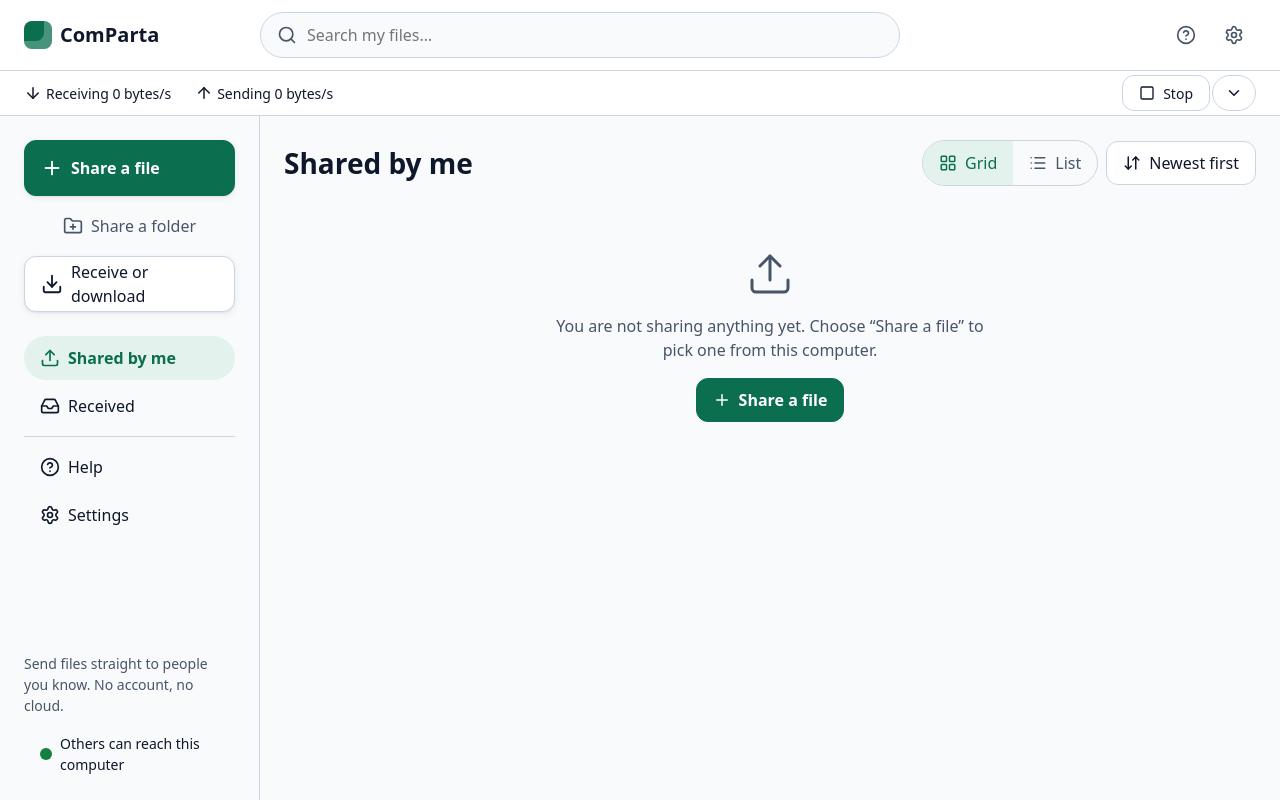
Test case: sharing a folder or several files › shares a folder chosen in the folder dialog, with its files counted and a folder picture
Click the button "Share a folder" at [130, 226], box [24,204,235,248]
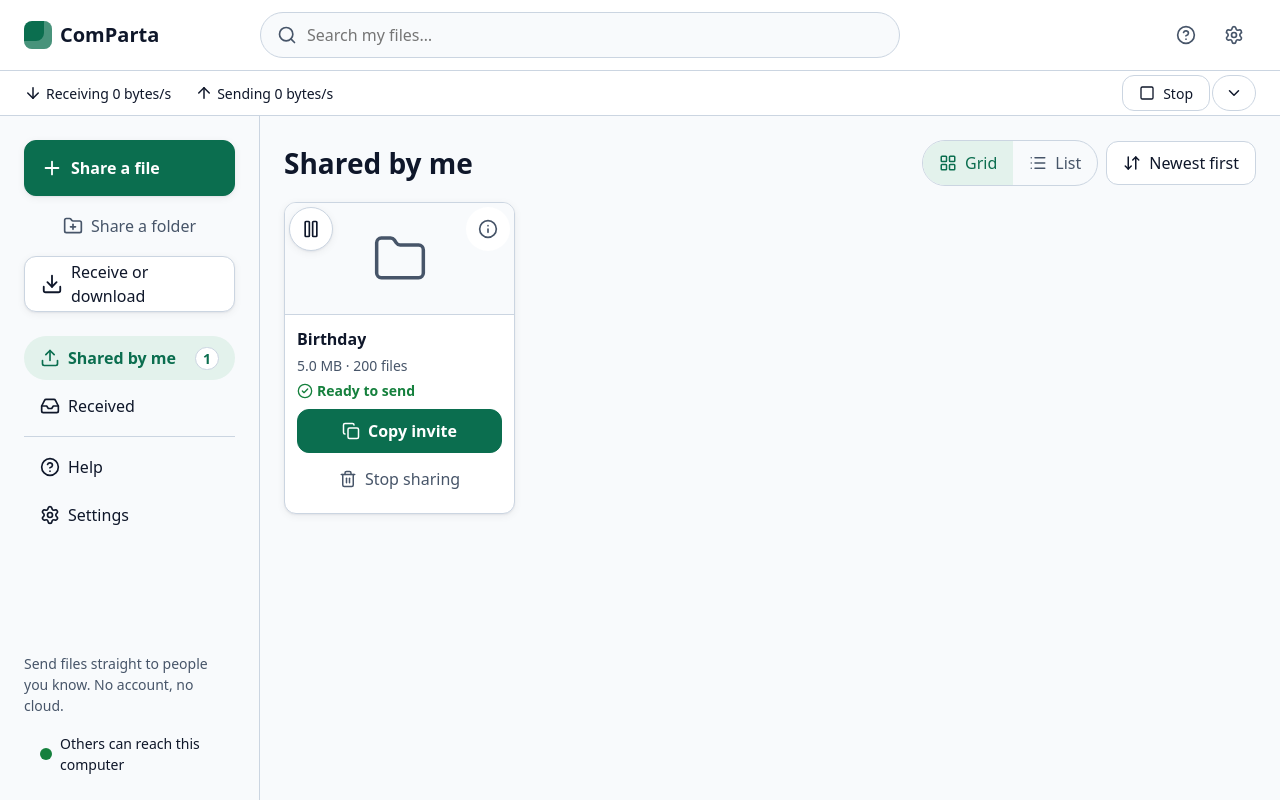
Check: the text "5.0 MB · 200 files" is shown, box [297,355,408,376]
Check: the icon with class "lucide-folder" is shown, box [372,230,428,286]
Check: the button with aria-label "Copy invite for Birthday" is shown, box [297,409,502,453]
